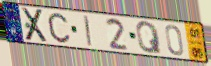0: (164, 24, 185, 57)
2: (104, 17, 130, 51)
C: (46, 12, 72, 44)
I: (83, 14, 94, 48)
Q: (134, 20, 164, 55)
X: (21, 7, 50, 44)
